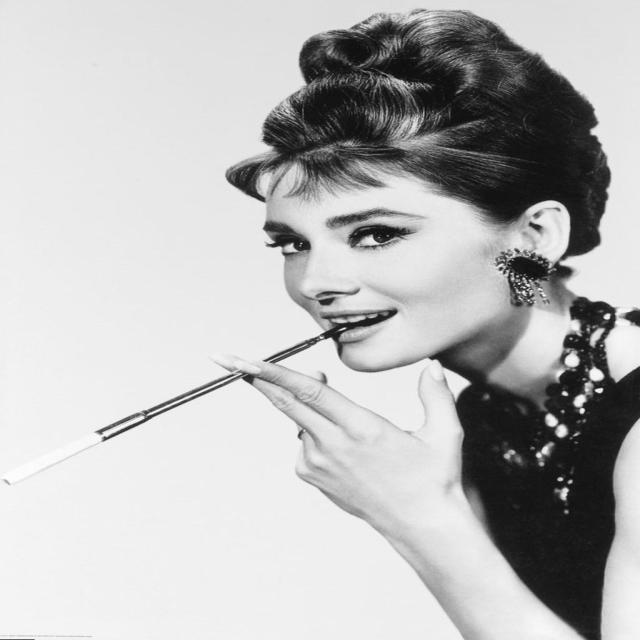smoking: (1, 11, 606, 525)
